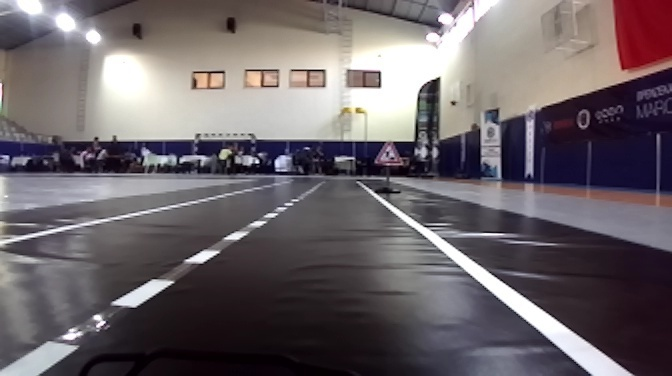yol_yapimi: (375, 137, 406, 164)
